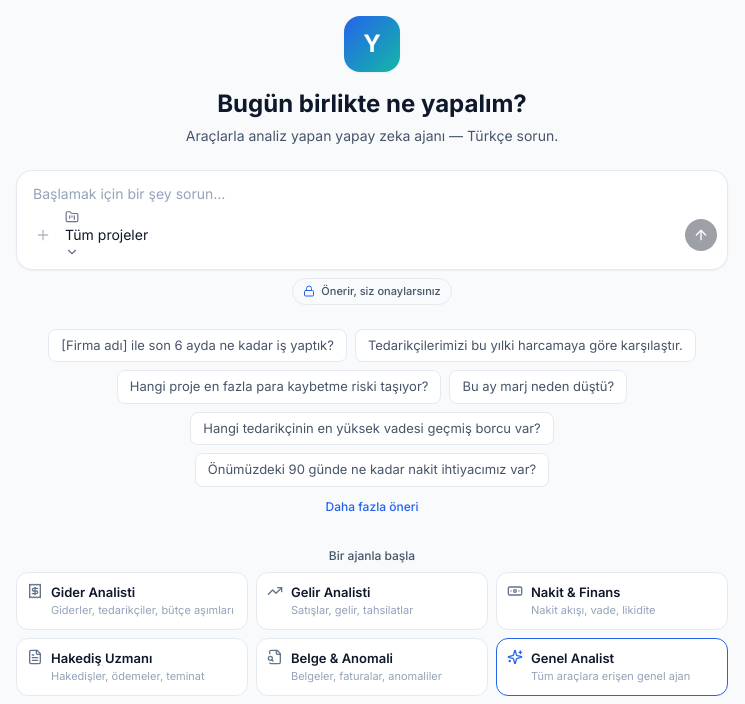
Test: AIAssistantPage live streaming (CR-011-D) › on error shows the graceful Turkish message, not a silent empty state
Type "Akçansa ne kadar?" into the text box. click: (372, 188)
box: [17, 171, 727, 206]
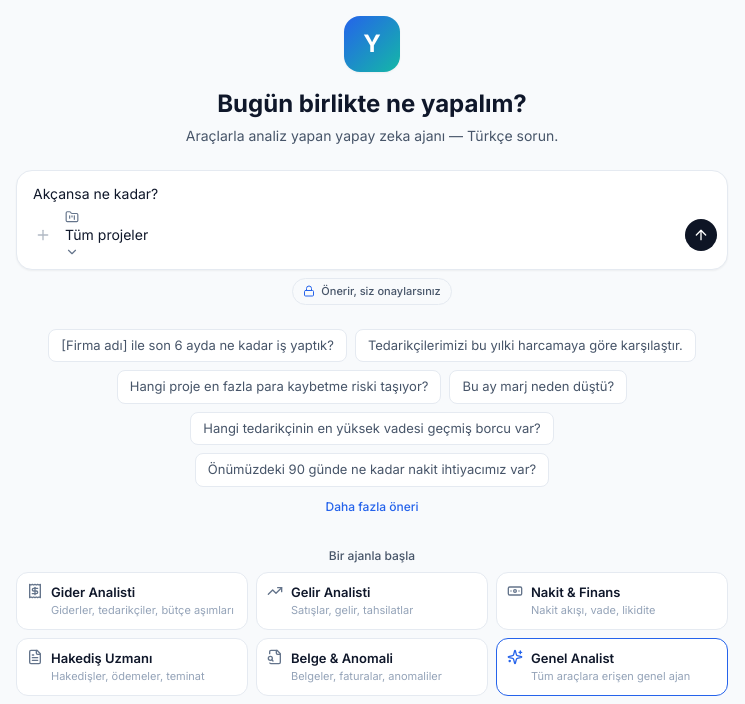
Click the button named "Gönder". click: (701, 234)
box: [685, 218, 717, 250]
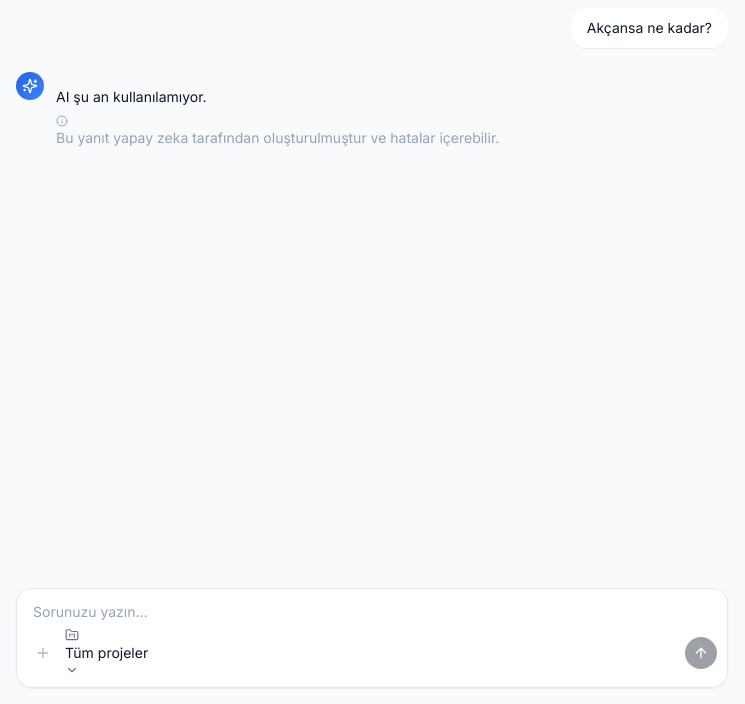
Now the text "AI şu an kullanılamıyor." is shown, box [56, 88, 207, 105]
